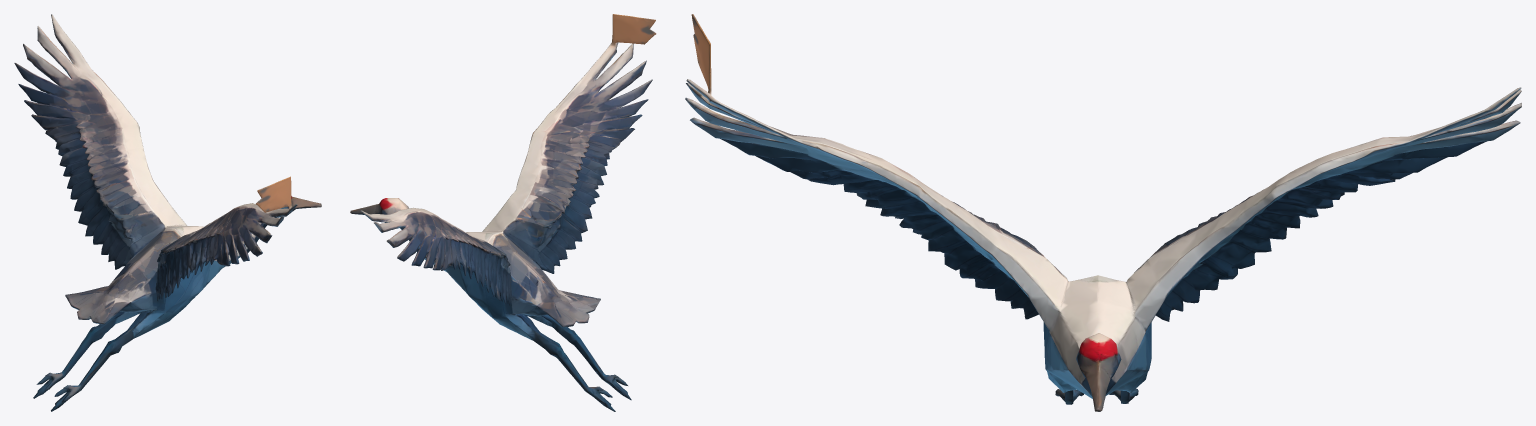
File: crane-fly.glb
The picture shows the model from 3 angles, left to right: view 1: azimuth 30°, elevation 25°; view 2: azimuth 150°, elevation 25°; view 3: azimuth 270°, elevation 25°; orthographic projection. The views are drawn at different scales.
Visible parts, largest first — view 1: tripo_node_9aaeed9e-3a06-471e-960c-5a6745d42e47; view 2: tripo_node_9aaeed9e-3a06-471e-960c-5a6745d42e47; view 3: tripo_node_9aaeed9e-3a06-471e-960c-5a6745d42e47.
Part boxes in pixels (x1,y1,x2,y2): tripo_node_9aaeed9e-3a06-471e-960c-5a6745d42e47: [14, 14, 321, 411]; tripo_node_9aaeed9e-3a06-471e-960c-5a6745d42e47: [350, 14, 656, 411]; tripo_node_9aaeed9e-3a06-471e-960c-5a6745d42e47: [685, 14, 1521, 411].
Size of the model in its own units: 0.6295 by 0.6107 by 1.
1 material, 1 textured.
